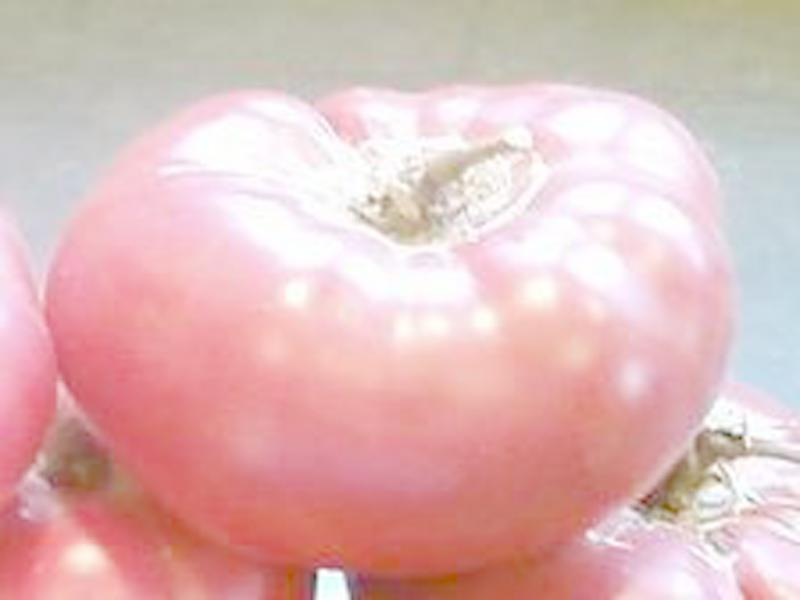Tomato: (38, 82, 738, 573)
